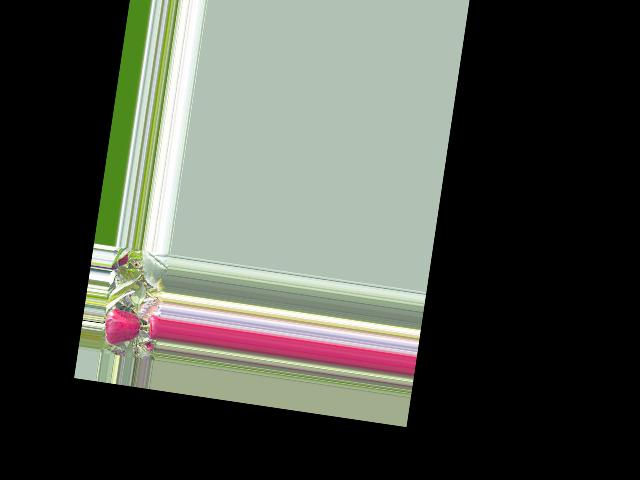bell_pepper: (143, 311, 161, 341)
